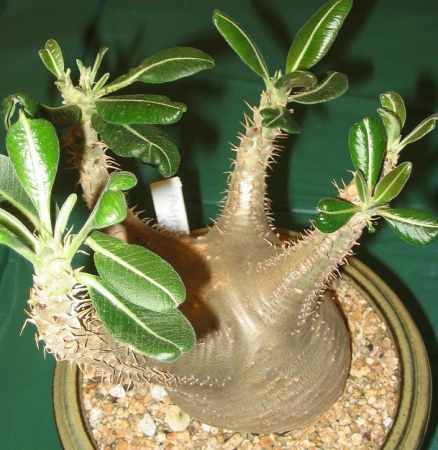Pachypodium rosulatum: (29, 36, 394, 440)
